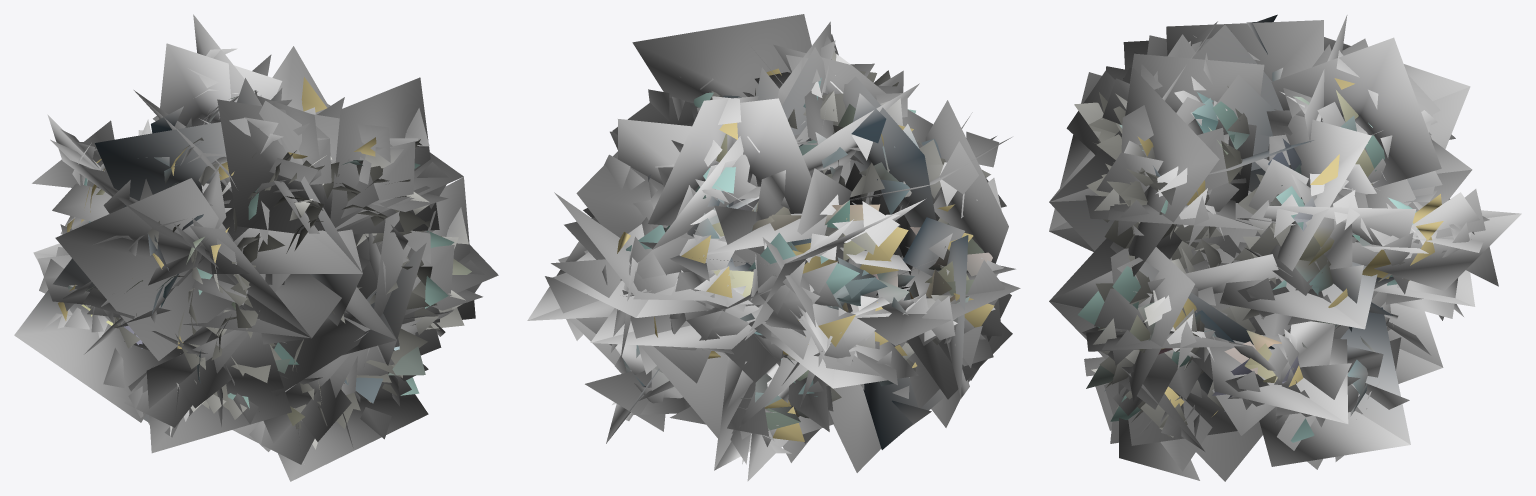
The model's file is SM_000015_tr061_leaf_01.fbx.
The picture shows the model from 3 angles, left to right: view 1: azimuth 30°, elevation 25°; view 2: azimuth 150°, elevation 25°; view 3: azimuth 270°, elevation 25°; orthographic projection. The views are drawn at different scales.
Visible parts, largest first — view 1: SM_000015.001; view 2: SM_000015.001; view 3: SM_000015.001.
Boxes of the visible parts, left/top/right/bottom form: SM_000015.001: left=14, top=14, right=498, bottom=481; SM_000015.001: left=527, top=14, right=1020, bottom=481; SM_000015.001: left=1049, top=14, right=1521, bottom=481.
Size of the model in its own units: 4.92 by 4.56 by 4.45.
